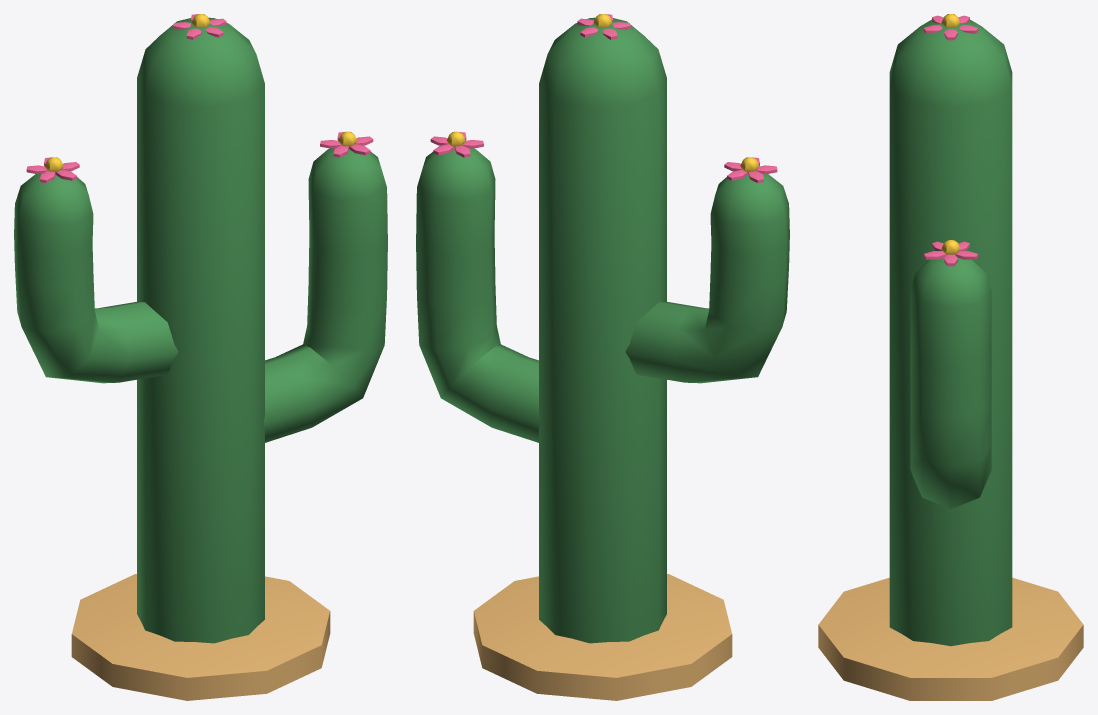
Rendered from W5_Cactus_A.fbx.
3 views of the same model, side by side, from view 1: azimuth 30°, elevation 25°; view 2: azimuth 150°, elevation 25°; view 3: azimuth 270°, elevation 25° (orthographic).
Visible parts, largest first — view 1: W5_Cactus_A; view 2: W5_Cactus_A; view 3: W5_Cactus_A.
Boxes of the visible parts, bbox=[...] form: W5_Cactus_A: bbox=[14, 14, 387, 700]; W5_Cactus_A: bbox=[416, 14, 789, 700]; W5_Cactus_A: bbox=[818, 14, 1083, 700].
Bounding box in the file's own units: 2.49 × 4.42 × 1.56.
